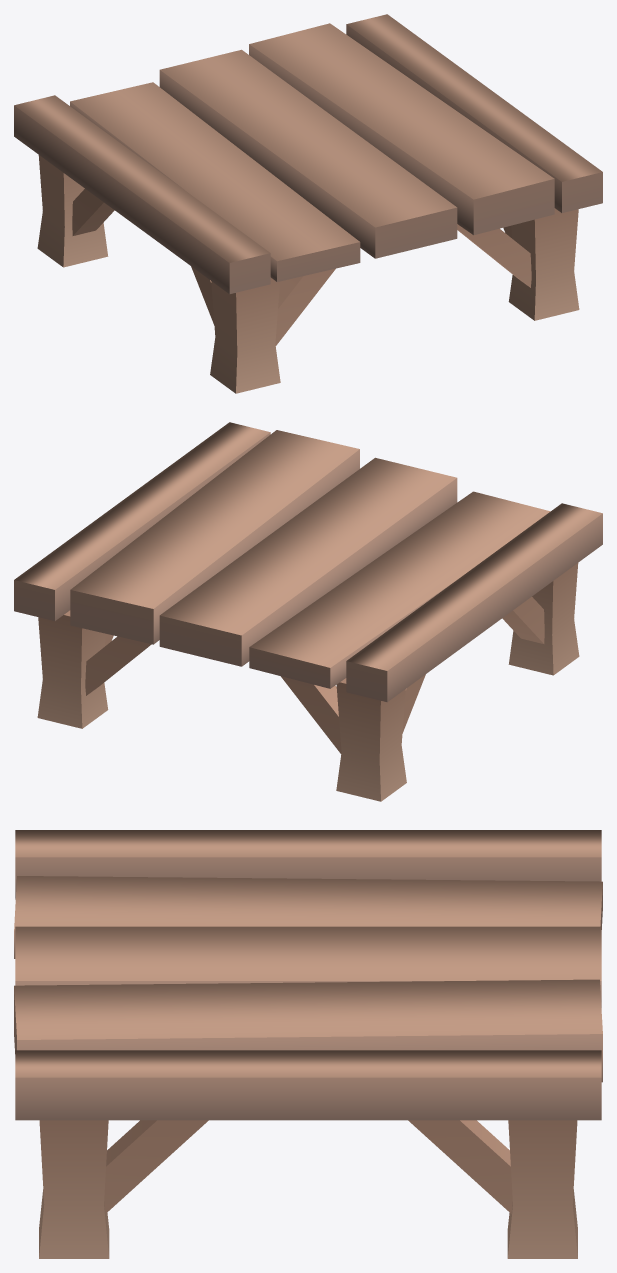
The model's file is structure-platform.glb.
3 renders of one model, top to bottom at view 1: azimuth 30°, elevation 25°; view 2: azimuth 150°, elevation 25°; view 3: azimuth 270°, elevation 25°, orthographic. The views are drawn at different scales.
Visible parts, largest first — view 1: structure-platform; view 2: structure-platform; view 3: structure-platform.
Part boxes in pixels (x1,y1,x2,y2): structure-platform: (14, 14, 602, 393); structure-platform: (14, 422, 602, 801); structure-platform: (14, 830, 602, 1258).
Bounding box in the file's own units: 2.5 × 0.928 × 2.51.
